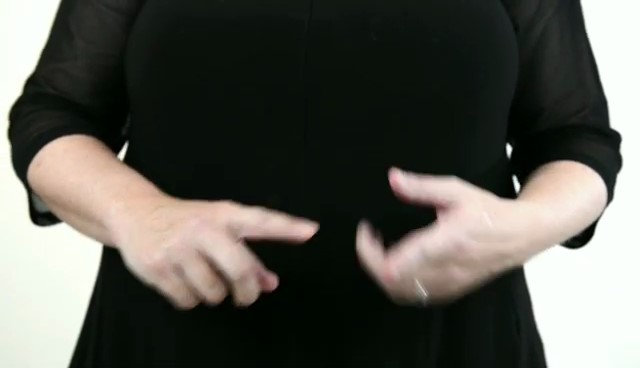E: (122, 149, 518, 325)
